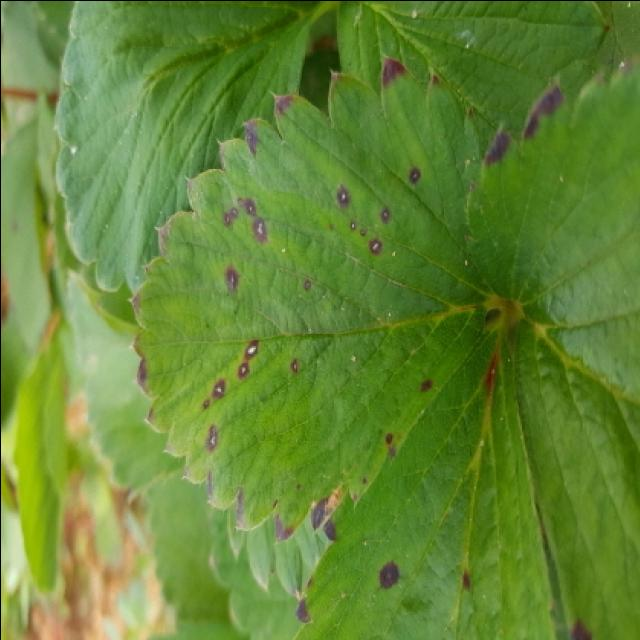Leaf Spot: (129, 50, 500, 543), (290, 309, 554, 640)
